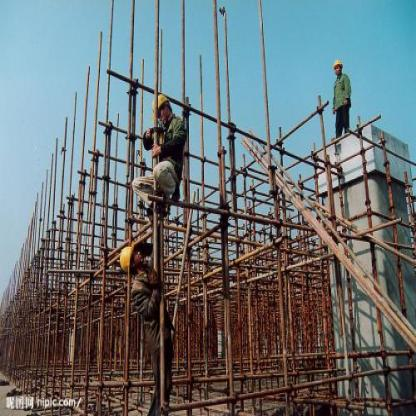helmet: (117, 243, 146, 272), (151, 93, 172, 125), (331, 57, 345, 77)
